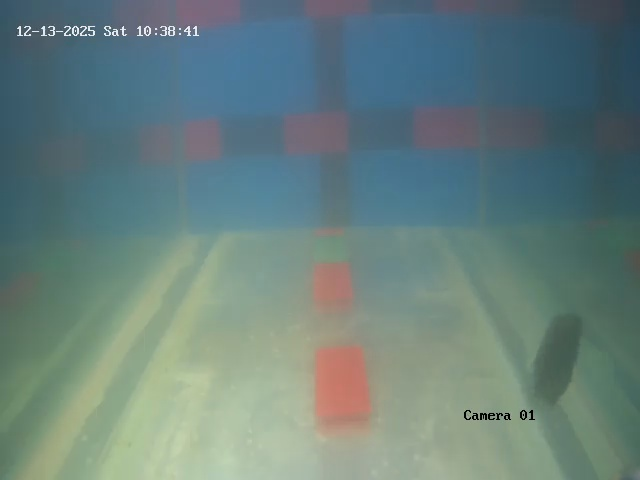fish: (530, 316, 589, 402)
